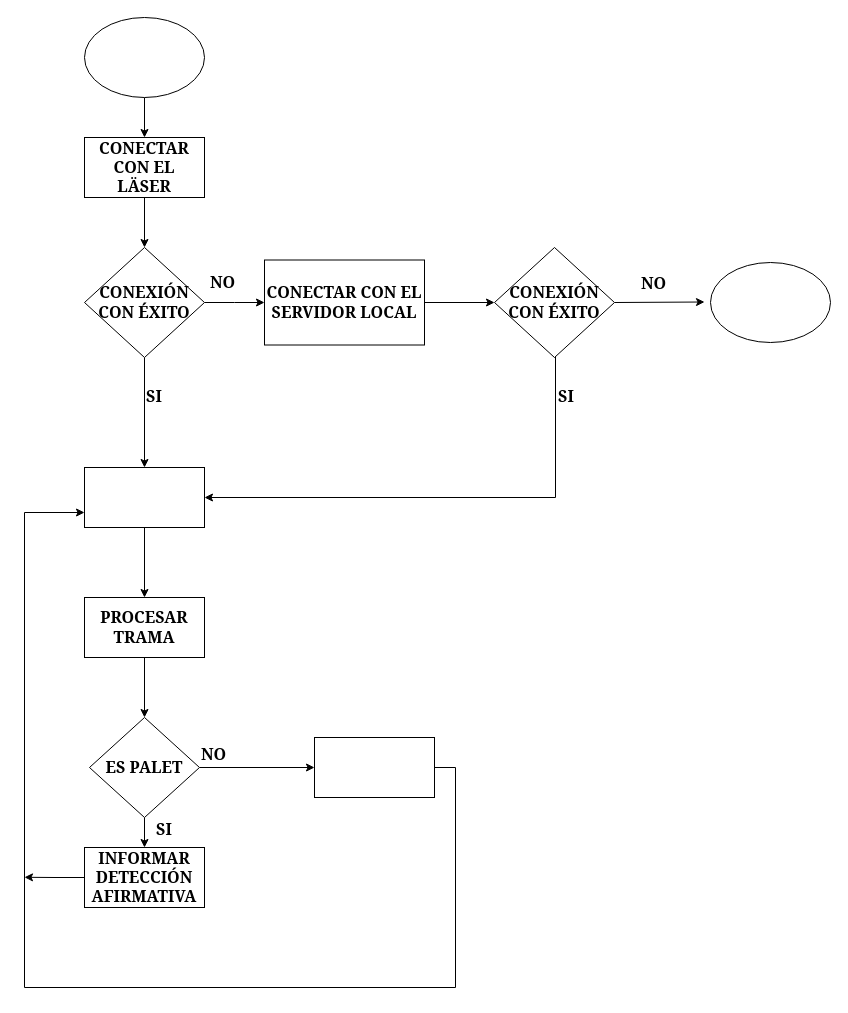
This 848x1013 diagram has some shape labels left out. The shapes that lost their labels are listed below. From the top down, each one's centre as x and y in pixels, then its label:
At point 144,57: "INICIO".
At point 770,302: "FIN".
At point 144,497: "RECIBIR TRAMA".
At point 374,767: "INFORMAR DETECCIÓN NEGATIVA".
